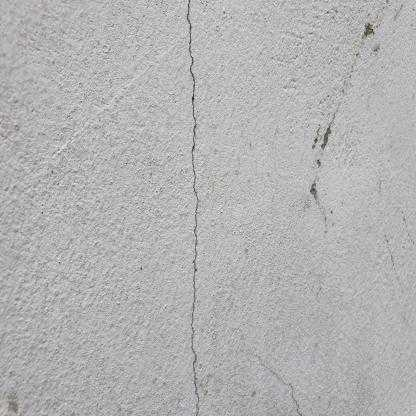crack: (187, 0, 199, 416)
